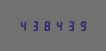eight: (42, 20, 53, 31)
four: (17, 20, 28, 31), (54, 20, 65, 31)
nine: (78, 20, 89, 31)
three: (29, 20, 40, 31), (66, 20, 77, 31)
